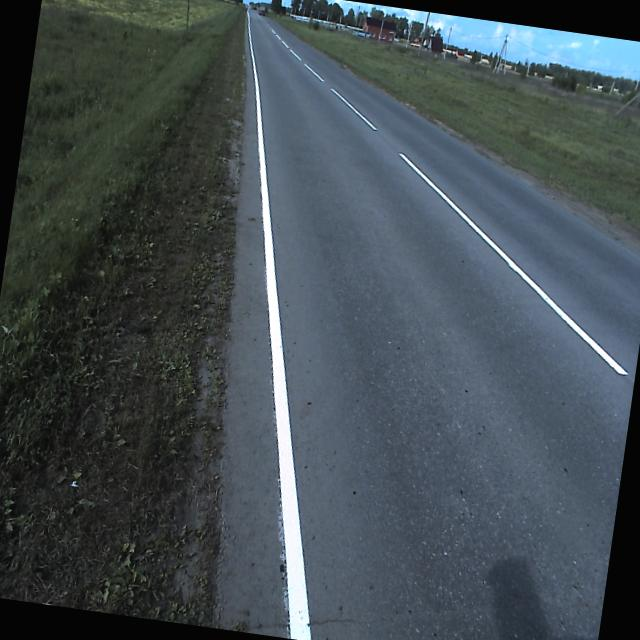road: (214, 10, 640, 640)
